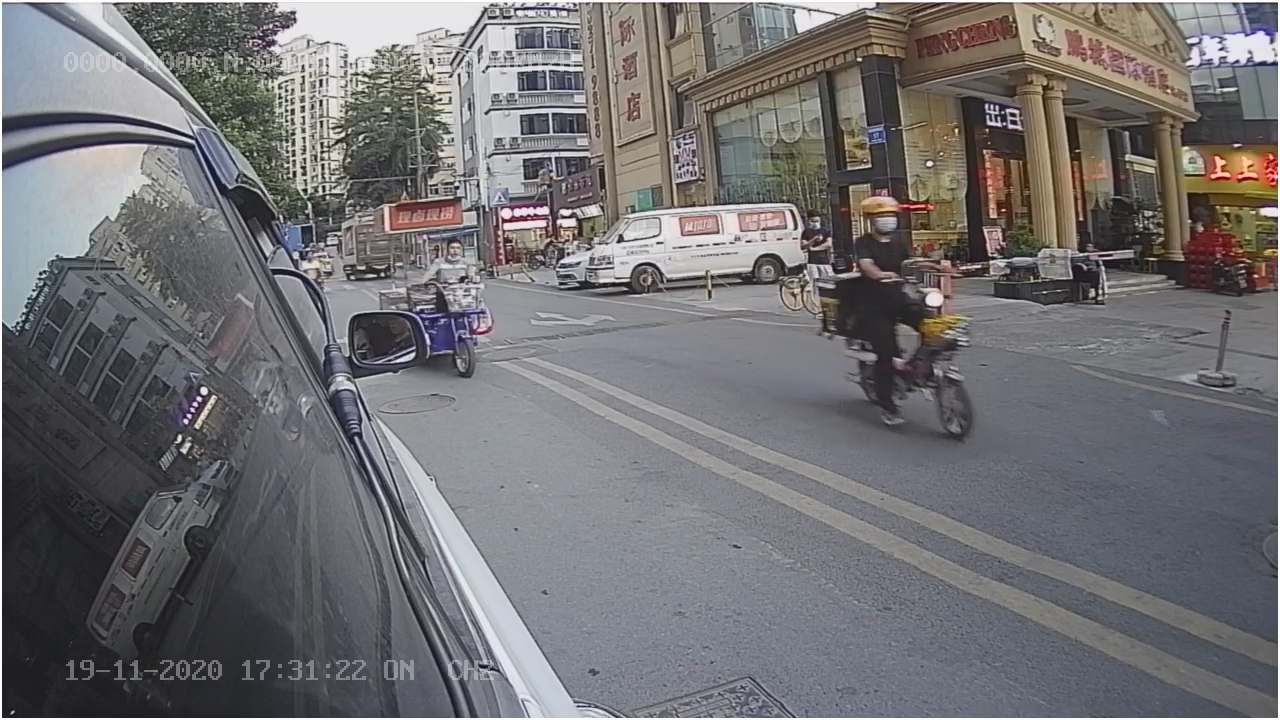person: (850, 197, 937, 275), (422, 228, 481, 280)
